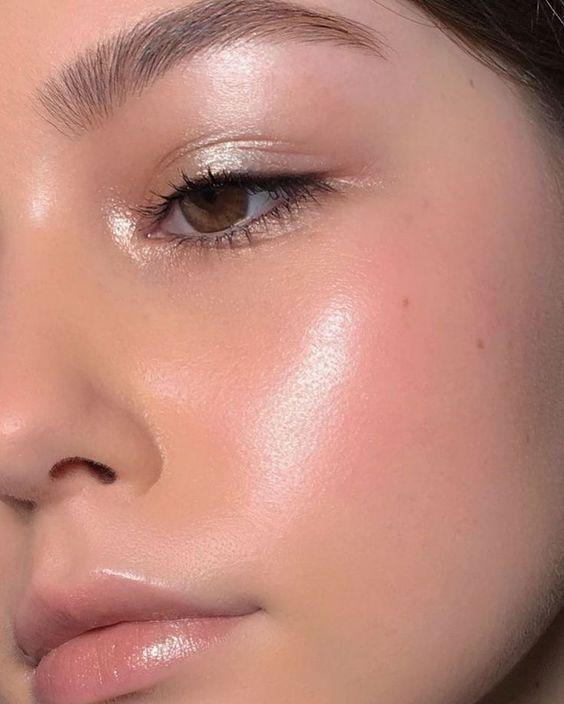Oily-Skin: (283, 306, 385, 492), (63, 498, 241, 586), (18, 168, 95, 242), (201, 48, 305, 99)
